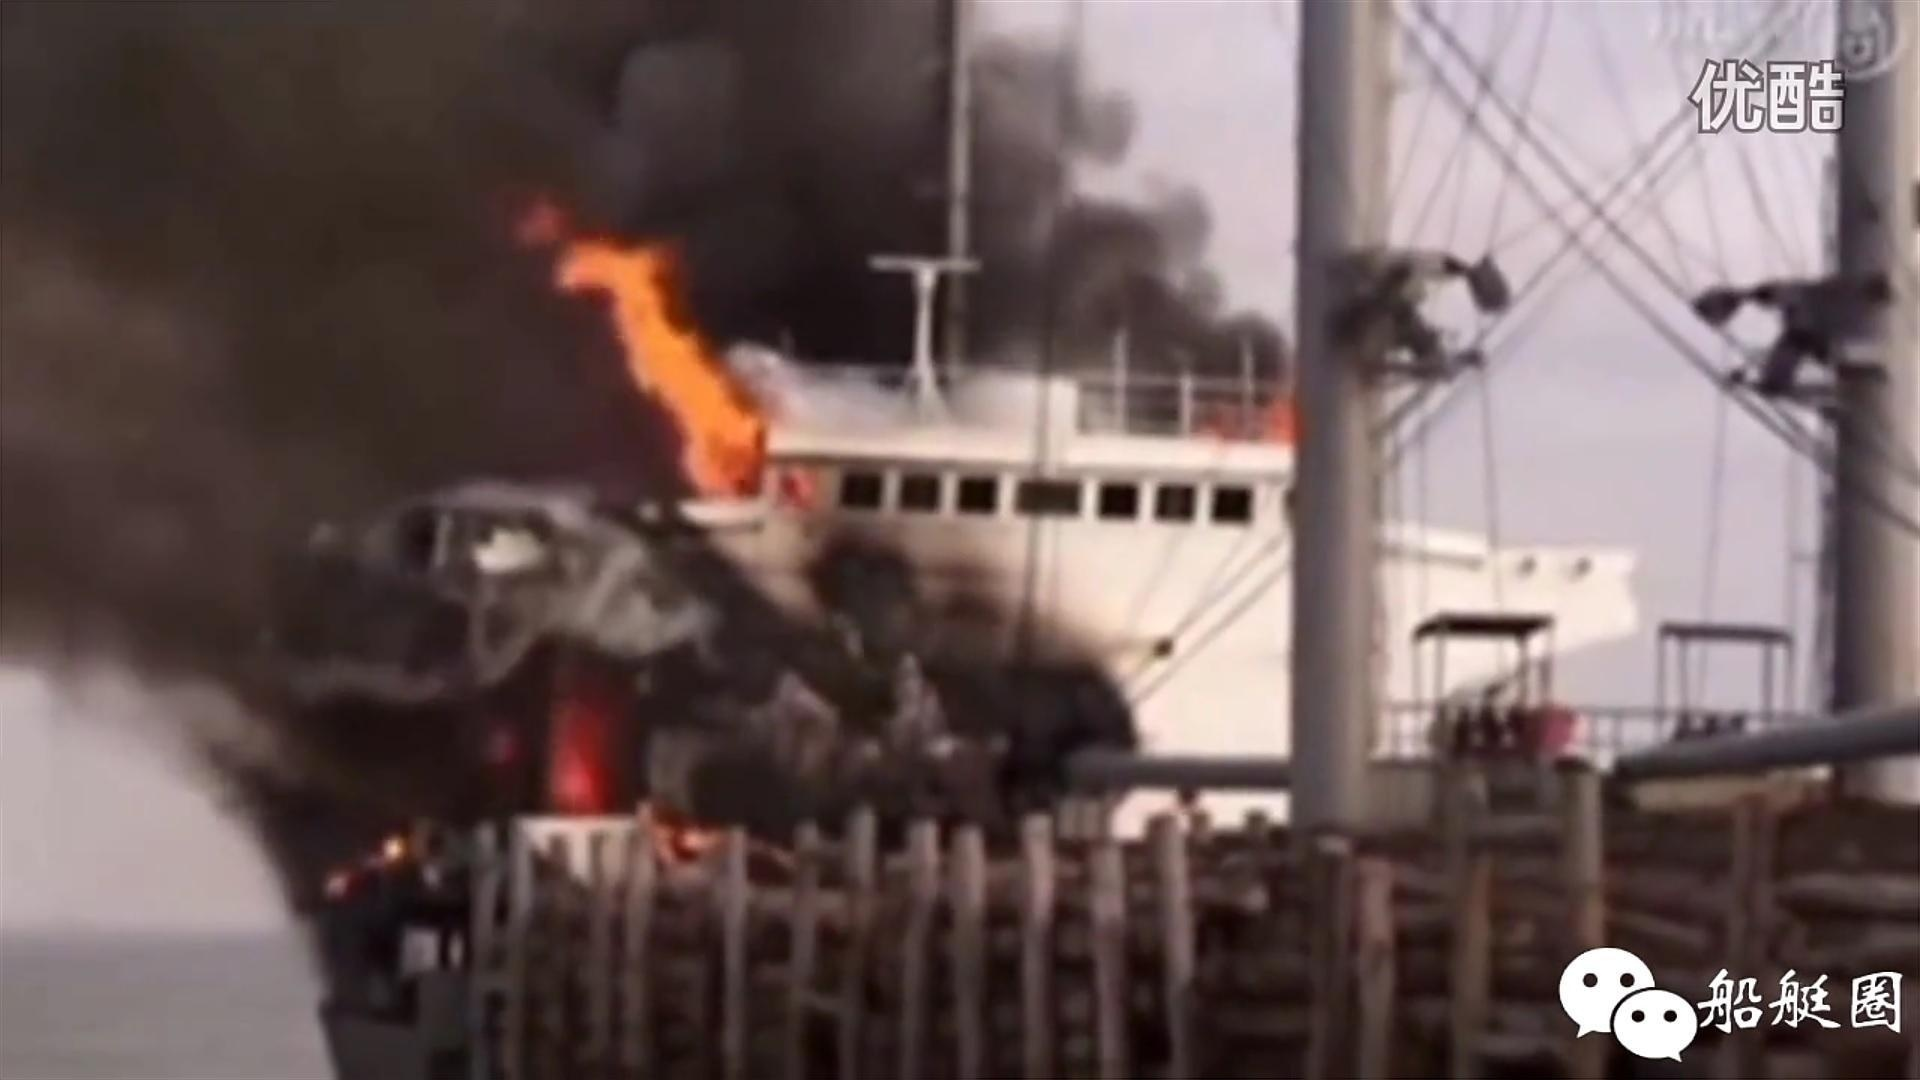fire: (538, 220, 775, 488)
